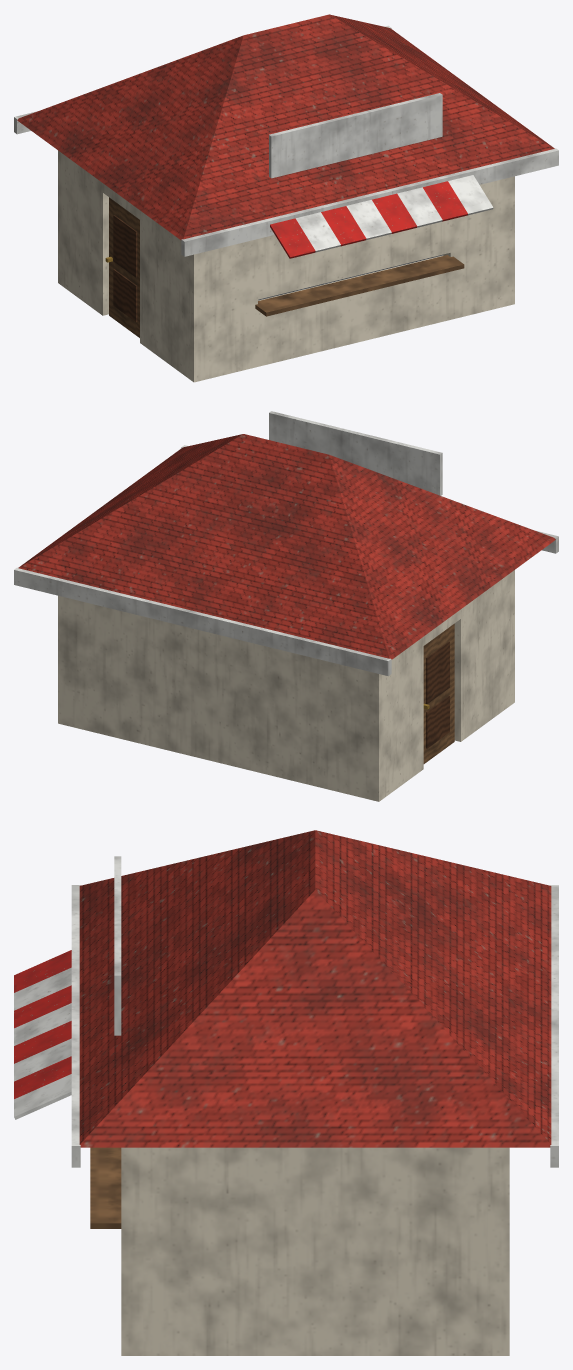
Rendered from Kiosk_Red.fbx.
3 views of the same model, one above another, from view 1: azimuth 30°, elevation 25°; view 2: azimuth 150°, elevation 25°; view 3: azimuth 270°, elevation 25° (orthographic). The views are drawn at different scales.
Parts seen in each view (by area): view 1: Roof, Walls, Awning_Sign, Counter, Door_Kiosk_Red; view 2: Roof, Walls, Awning_Sign, Door_Kiosk_Red; view 3: Roof, Walls, Awning_Sign, Counter.
Boxes of the visible parts, left/top/right/bottom form: Roof: left=14, top=14, right=558, bottom=256; Walls: left=58, top=150, right=514, bottom=382; Awning_Sign: left=269, top=93, right=493, bottom=258; Counter: left=255, top=254, right=464, bottom=316; Door_Kiosk_Red: left=105, top=197, right=139, bottom=337; Roof: left=14, top=434, right=558, bottom=676; Walls: left=58, top=570, right=514, bottom=801; Awning_Sign: left=269, top=411, right=442, bottom=495; Door_Kiosk_Red: left=423, top=623, right=454, bottom=763; Roof: left=71, top=830, right=558, bottom=1167; Walls: left=121, top=1147, right=509, bottom=1355; Awning_Sign: left=14, top=856, right=121, bottom=1119; Counter: left=90, top=1147, right=121, bottom=1228.
Size of the model in its own units: 7 by 4.8 by 6.18.
